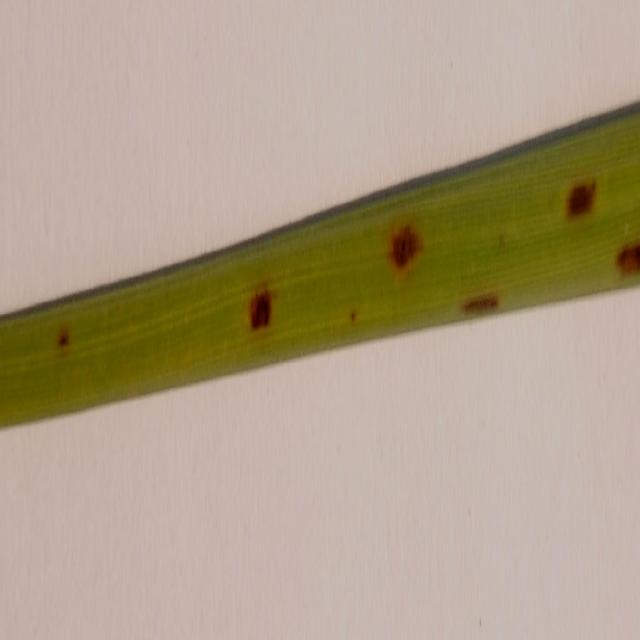Brown_Spot: (246, 266, 280, 366), (389, 184, 425, 277), (464, 260, 508, 330), (561, 163, 609, 224), (614, 223, 640, 287), (52, 290, 72, 360)
